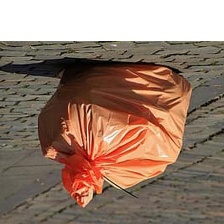plastic_bag: (35, 61, 194, 209)
